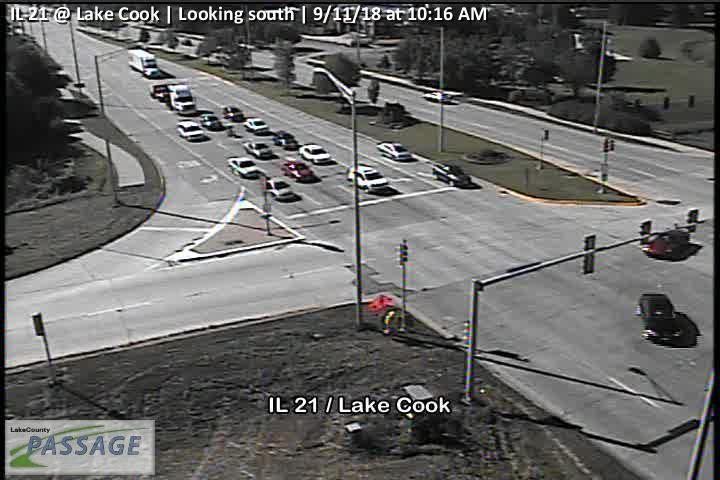SUV: (635, 293, 683, 344), (346, 164, 388, 194), (432, 160, 472, 188), (265, 176, 295, 201), (272, 132, 299, 151), (221, 106, 244, 122)
Sedan: (640, 229, 690, 259), (280, 160, 314, 182), (298, 143, 332, 164), (226, 156, 257, 179), (376, 141, 411, 161), (177, 119, 204, 141), (243, 117, 270, 134), (148, 83, 169, 100), (423, 91, 452, 103)
Truck: (127, 49, 163, 80), (166, 82, 195, 111)
